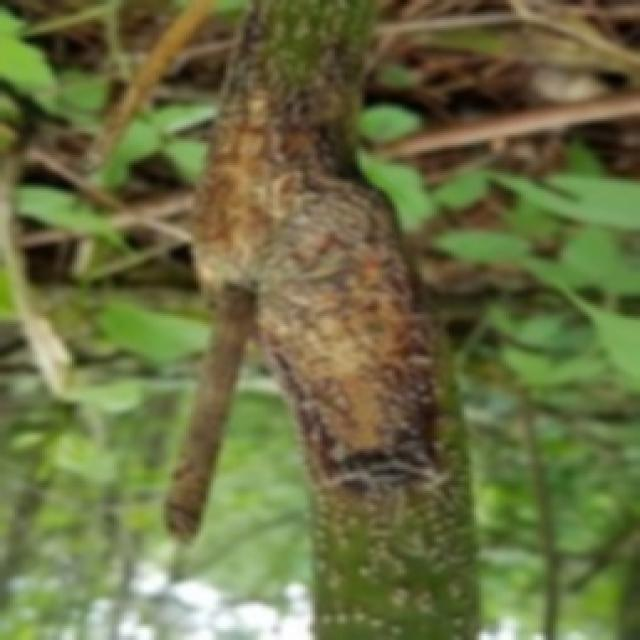Golden_canker: (79, 9, 515, 640)
